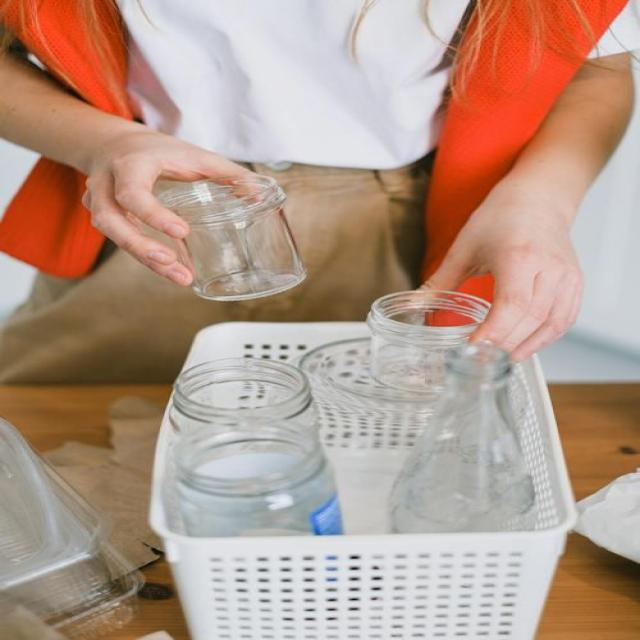glass: (173, 348, 342, 540), (389, 338, 533, 527), (145, 176, 321, 307), (346, 272, 480, 370)
